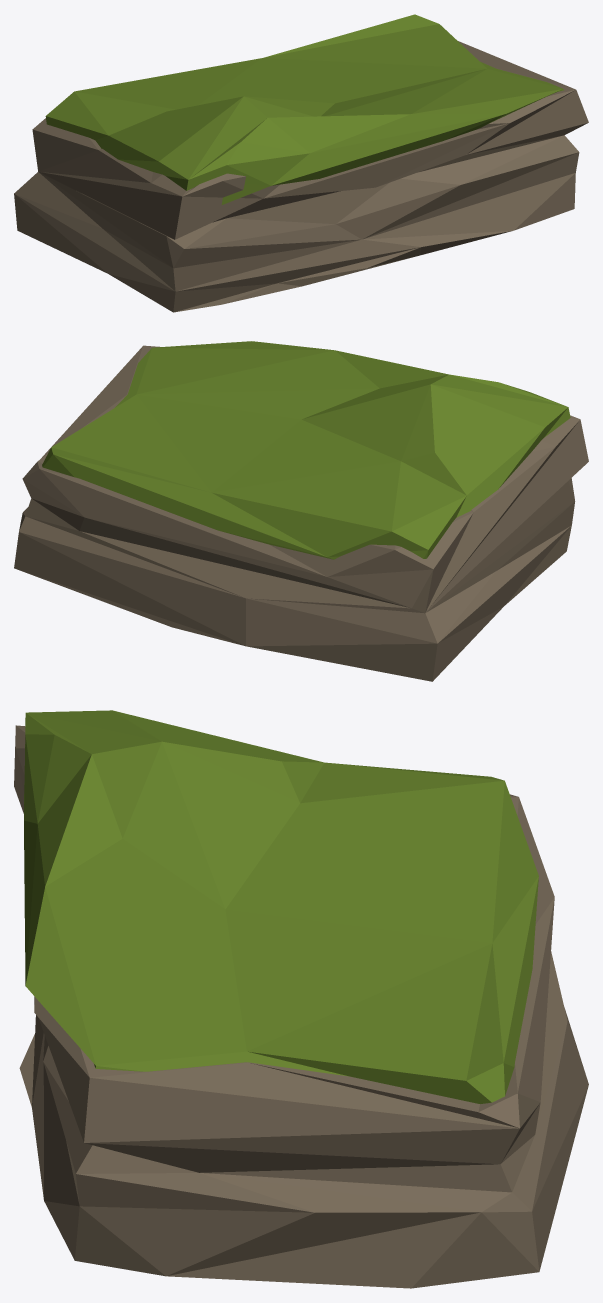
The model's file is Stone_6_moss_brown_vc.fbx.
The picture shows the model from 3 angles, top to bottom: view 1: azimuth 30°, elevation 25°; view 2: azimuth 150°, elevation 25°; view 3: azimuth 270°, elevation 25°; orthographic projection. The views are drawn at different scales.
Parts seen in each view (by area): view 1: Stone_6_moss_brown_vc; view 2: Stone_6_moss_brown_vc; view 3: Stone_6_moss_brown_vc.
Boxes of the visible parts, bbox=[...] form: Stone_6_moss_brown_vc: bbox=[14, 14, 588, 312]; Stone_6_moss_brown_vc: bbox=[14, 341, 588, 681]; Stone_6_moss_brown_vc: bbox=[14, 710, 588, 1288].
Bounding box in the file's own units: 243 × 100 × 167.
